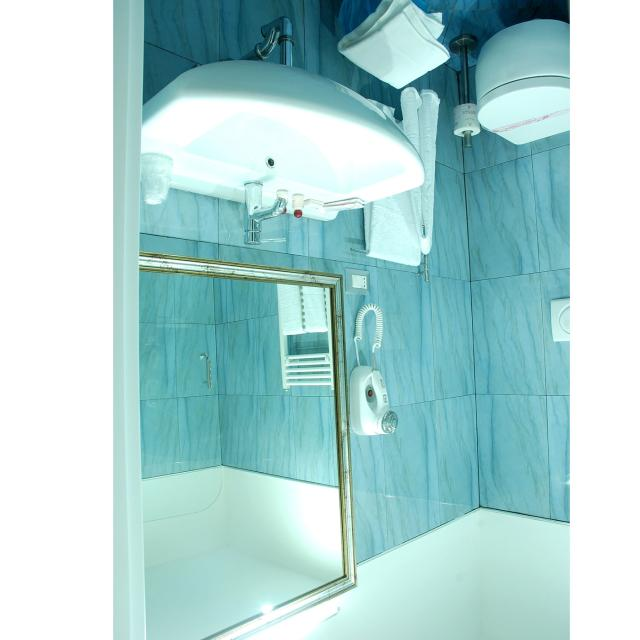dryer: (335, 287, 427, 454)
